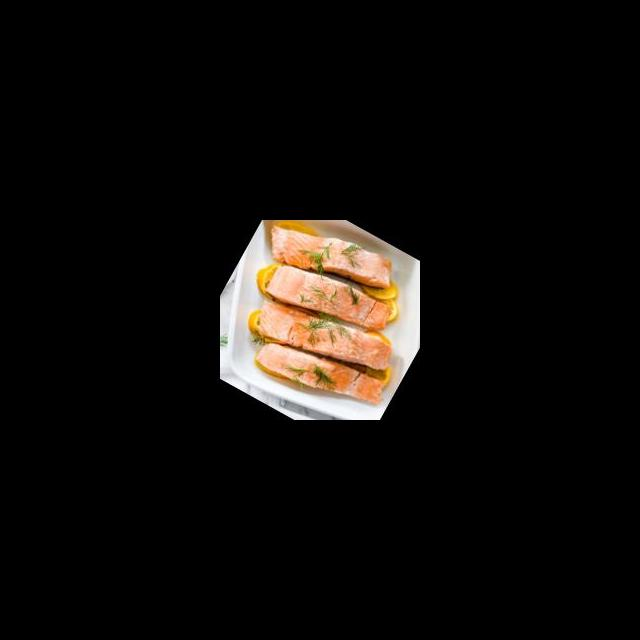ca hoi: (247, 277, 400, 398), (256, 244, 398, 356), (255, 220, 405, 319), (249, 319, 391, 420)
